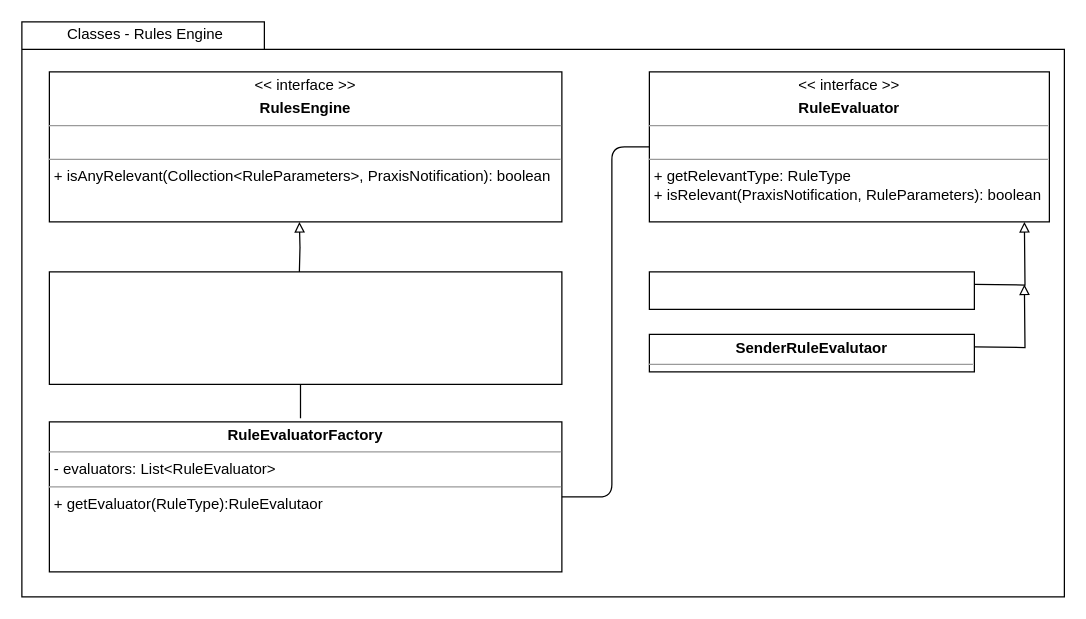
Image size: 1086x619. Some labels were removed from this diagram. Each missing label, with the centre of its shape:
"DefaultRulesEngine + ruleEvalutaorFactory: RuleEvaluatorFactory" goes at [305,327].
"NotificationTypeRuleEvalutaor" goes at [811,290].
